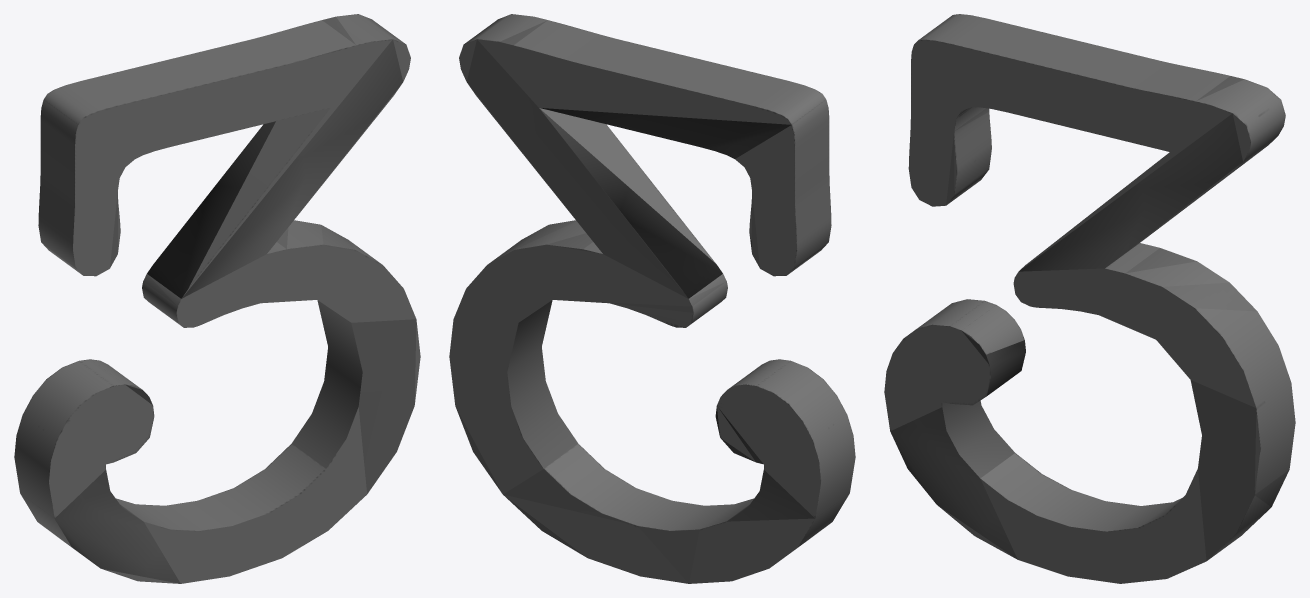
3 renders of one model, left to right at view 1: azimuth 30°, elevation 25°; view 2: azimuth 150°, elevation 25°; view 3: azimuth 330°, elevation 25°, orthographic.
Parts seen in each view (by area): view 1: node_id5; view 2: node_id5; view 3: node_id5.
Boxes of the visible parts, x1,y1,x2,y2 form: node_id5: (14, 14, 420, 583); node_id5: (449, 14, 855, 583); node_id5: (884, 14, 1295, 583).
Size of the model in its own units: 0.3982 by 0.512 by 0.0641.
1 material, 1 textured.
